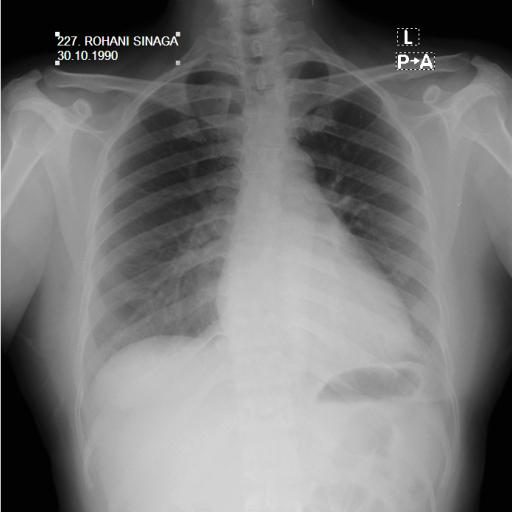kardiomegali: (75, 46, 455, 408)
